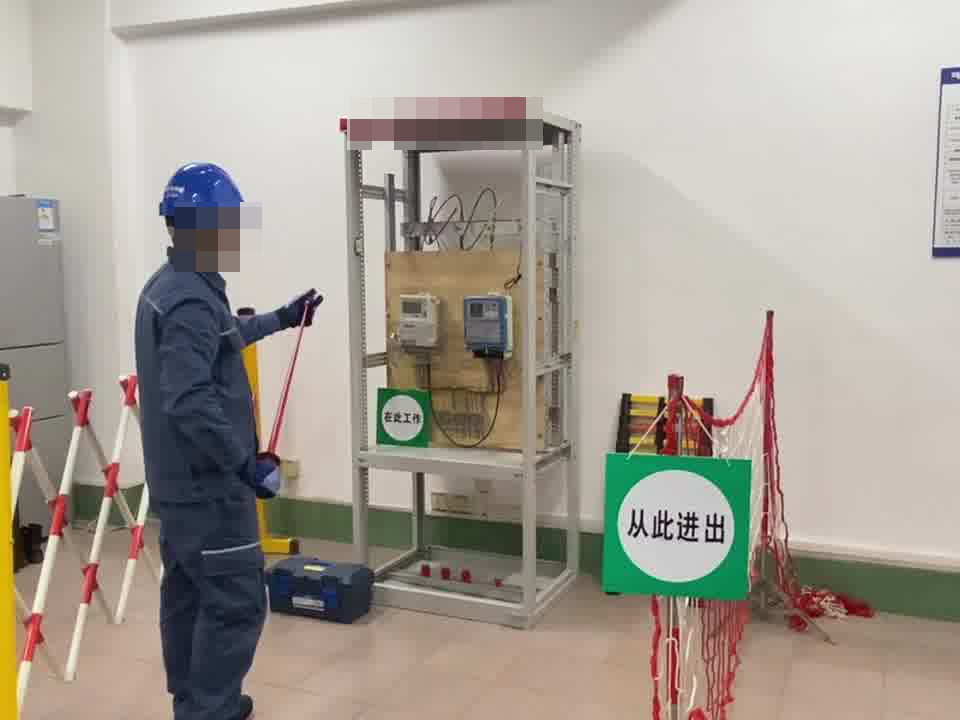downsuit: (154, 507, 267, 720)
glove: (277, 287, 321, 324), (246, 458, 283, 496)
halt: (158, 160, 255, 267)
inear: (203, 217, 236, 259)
intosign: (608, 456, 745, 592)
person: (121, 155, 315, 720)
testrod: (264, 301, 312, 488)
upsuit: (133, 259, 295, 496)
worksign: (377, 388, 427, 445)
